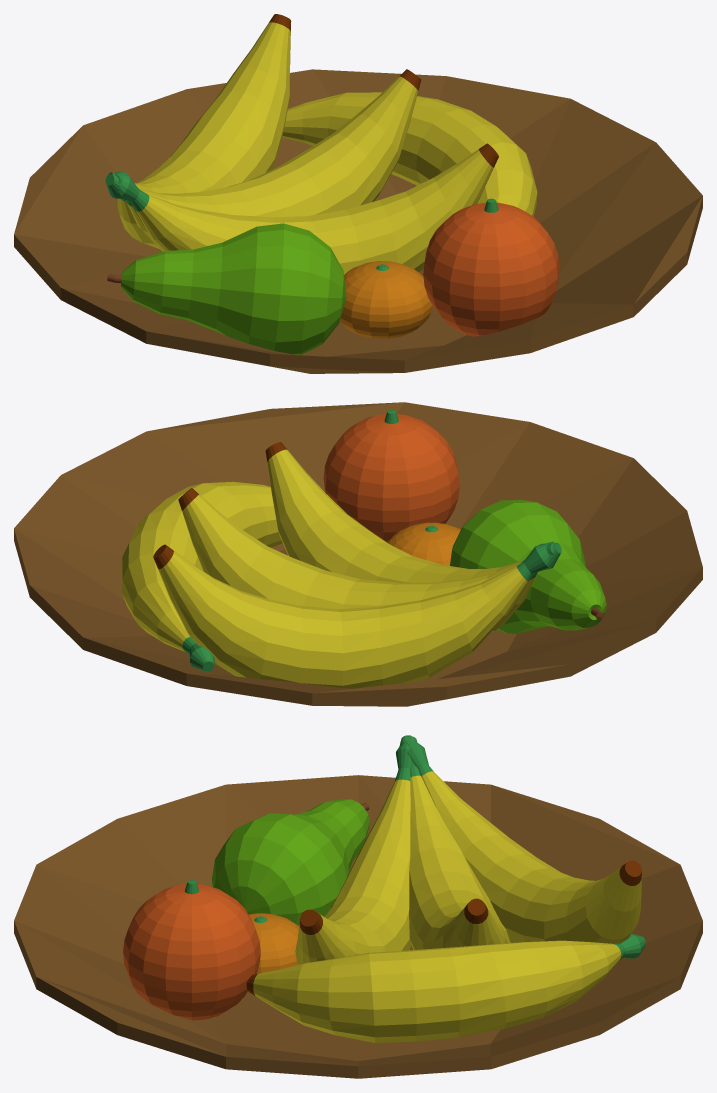
File: Fruit_Bowl.glb
3 views of the same model, one above another, from view 1: azimuth 30°, elevation 25°; view 2: azimuth 150°, elevation 25°; view 3: azimuth 270°, elevation 25° (orthographic).
Parts seen in each view (by area): view 1: world; view 2: world; view 3: world.
Boxes of the visible parts, bbox=[...] form: world: bbox=[14, 14, 702, 373]; world: bbox=[14, 402, 702, 706]; world: bbox=[14, 735, 702, 1078].
Bounding box in the file's own units: 120 × 32.85 × 120.
